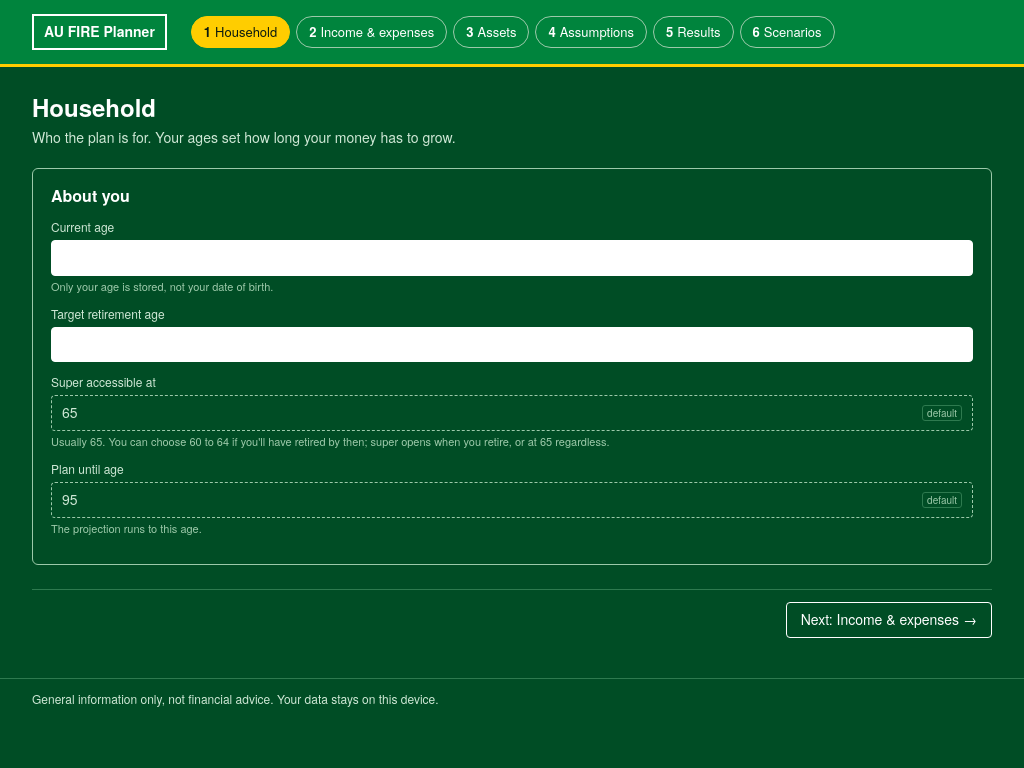
Test: App › moves to Income & expenses when Next is clicked
Expected: the heading "Household" is shown, [32,90,156,124]
Click the link "Next: Income & expenses →": (889, 620) [786,602,992,638]
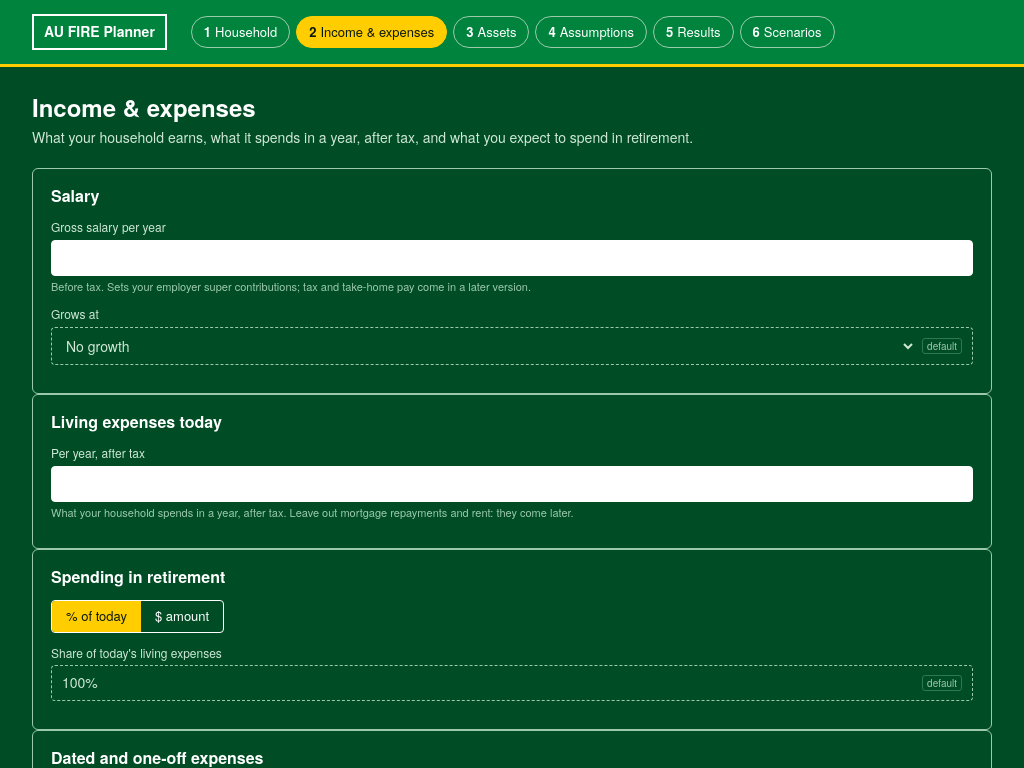
Now the heading "Income & expenses" is shown, box [32,90,256,124]
